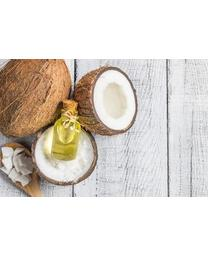coconut: (2, 60, 71, 138), (73, 67, 138, 136), (32, 122, 99, 186)
